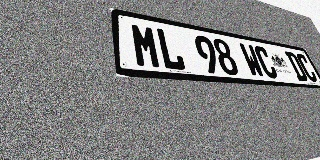8: (211, 38, 240, 76)
9: (193, 34, 223, 74)
C: (253, 45, 280, 79), (295, 53, 319, 82)
D: (284, 51, 309, 81)
L: (155, 27, 187, 71)
M: (130, 23, 162, 69)
W: (238, 43, 266, 78)
